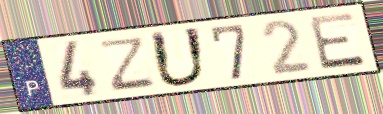2: (260, 18, 314, 78)
4: (56, 38, 101, 100)
7: (208, 23, 248, 82)
E: (306, 10, 369, 72)
U: (147, 26, 210, 90)
Z: (100, 34, 157, 93)
